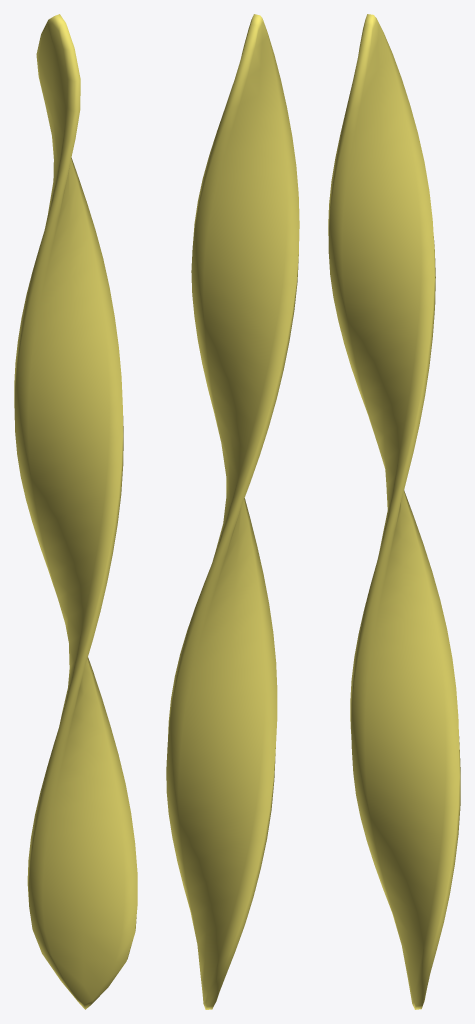
The model's file is Fusili.001.gltf.
The picture shows the model from 3 angles, left to right: view 1: azimuth 30°, elevation 25°; view 2: azimuth 150°, elevation 25°; view 3: azimuth 330°, elevation 25°; orthographic projection.
Visible parts, largest first — view 1: Fusili.001; view 2: Fusili.001; view 3: Fusili.001.
Part boxes in pixels (bbox=[...]): Fusili.001: bbox=[14, 14, 137, 1009]; Fusili.001: bbox=[166, 14, 299, 1009]; Fusili.001: bbox=[328, 14, 460, 1009].
Size of the model in its own units: 0.1914 by 1.59 by 0.1586.
